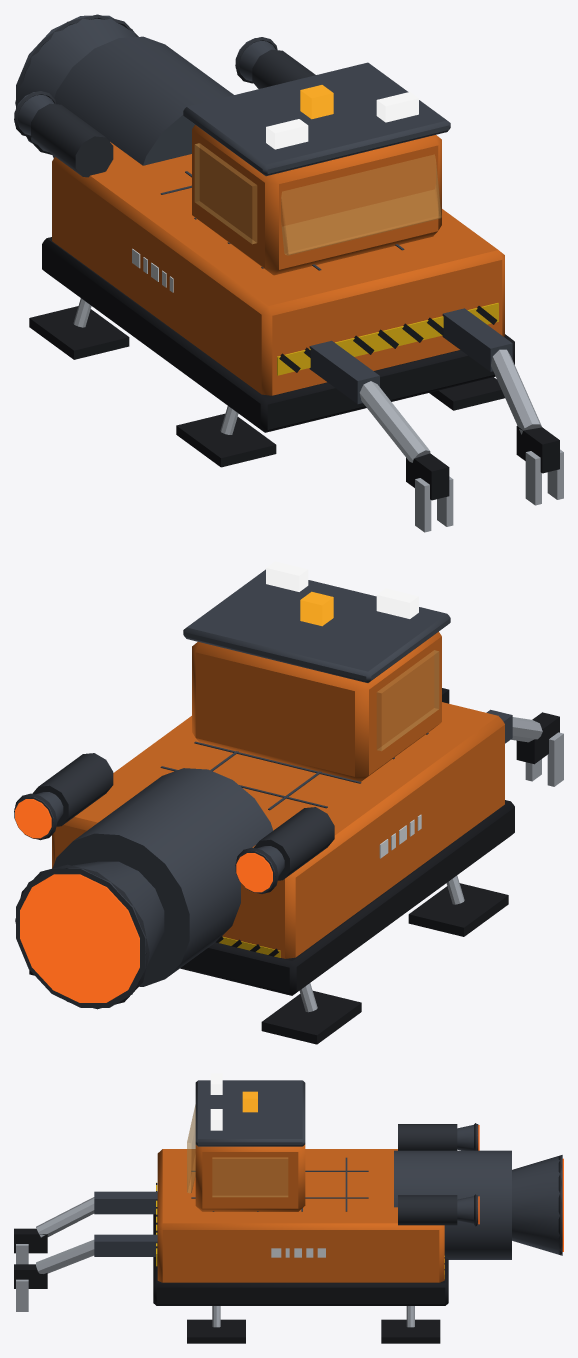
The model's file is craft_tug.glb.
3 views of the same model, one above another, from view 1: azimuth 30°, elevation 25°; view 2: azimuth 150°, elevation 25°; view 3: azimuth 270°, elevation 25° (orthographic). The views are drawn at different scales.
Parts seen in each view (by area): view 1: craft_tug; view 2: craft_tug; view 3: craft_tug.
Boxes of the visible parts, <box> form: craft_tug: <box>14,14,563,532</box>; craft_tug: <box>14,561,563,1044</box>; craft_tug: <box>14,1073,563,1343</box>.
Size of the model in its own units: 2.6 by 2.64 by 6.52.
